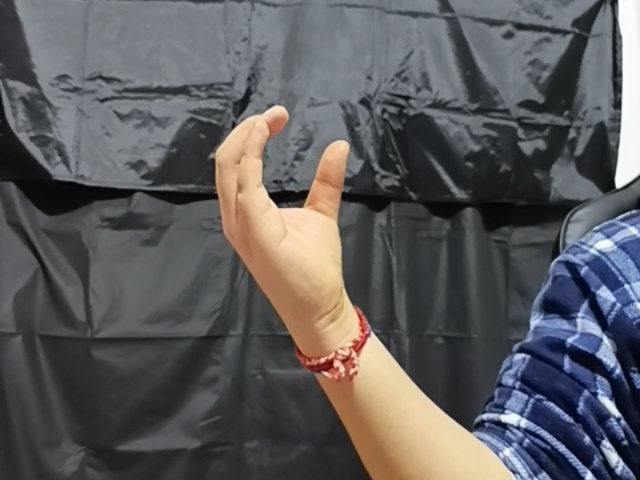C: (209, 104, 365, 326)
